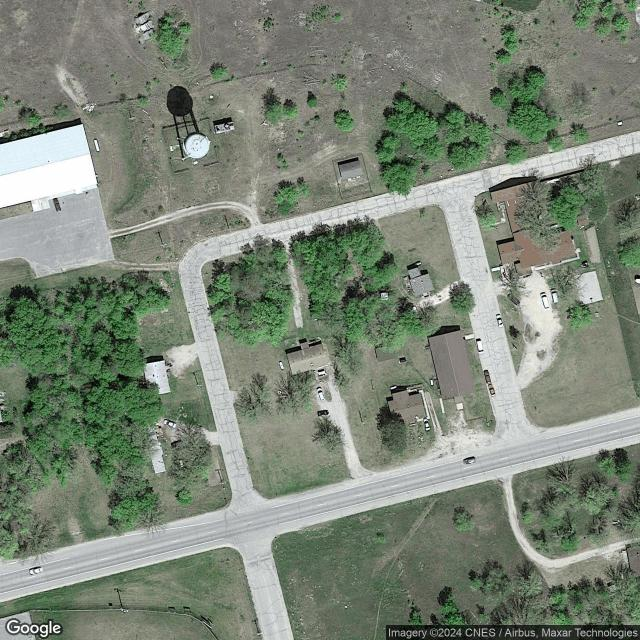Propane: (93, 138, 101, 153), (278, 360, 285, 371), (389, 384, 397, 390), (414, 261, 422, 267), (429, 378, 434, 387), (179, 459, 184, 467), (550, 223, 558, 228)
